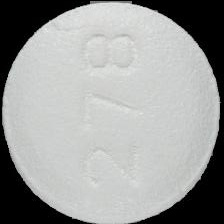31722-278: (0, 0, 224, 224)
